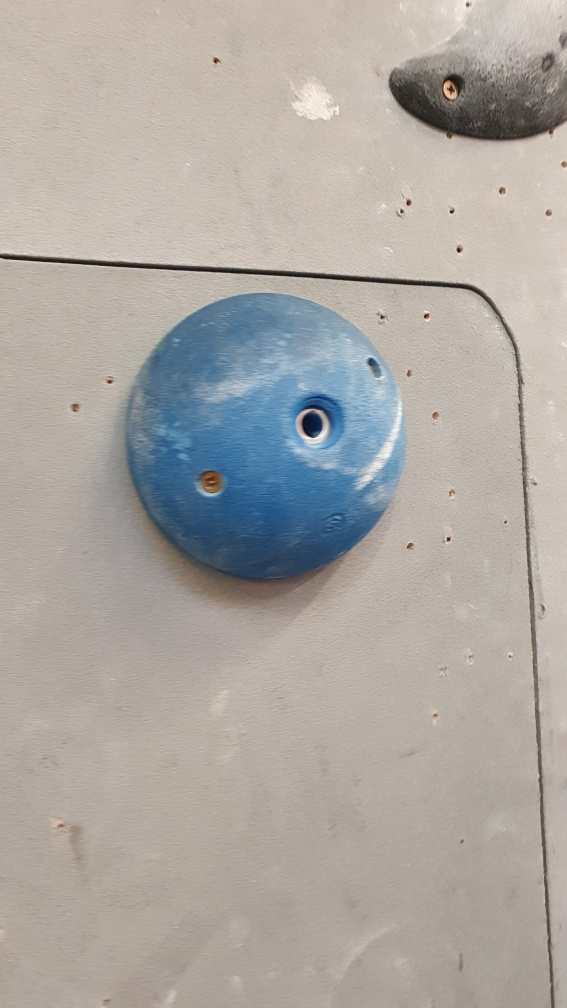Sloper: (120, 288, 415, 589)
